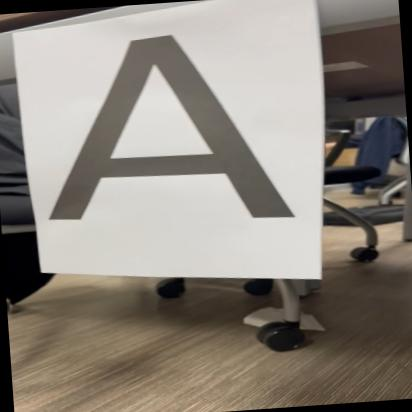seat: (34, 18, 312, 240)
